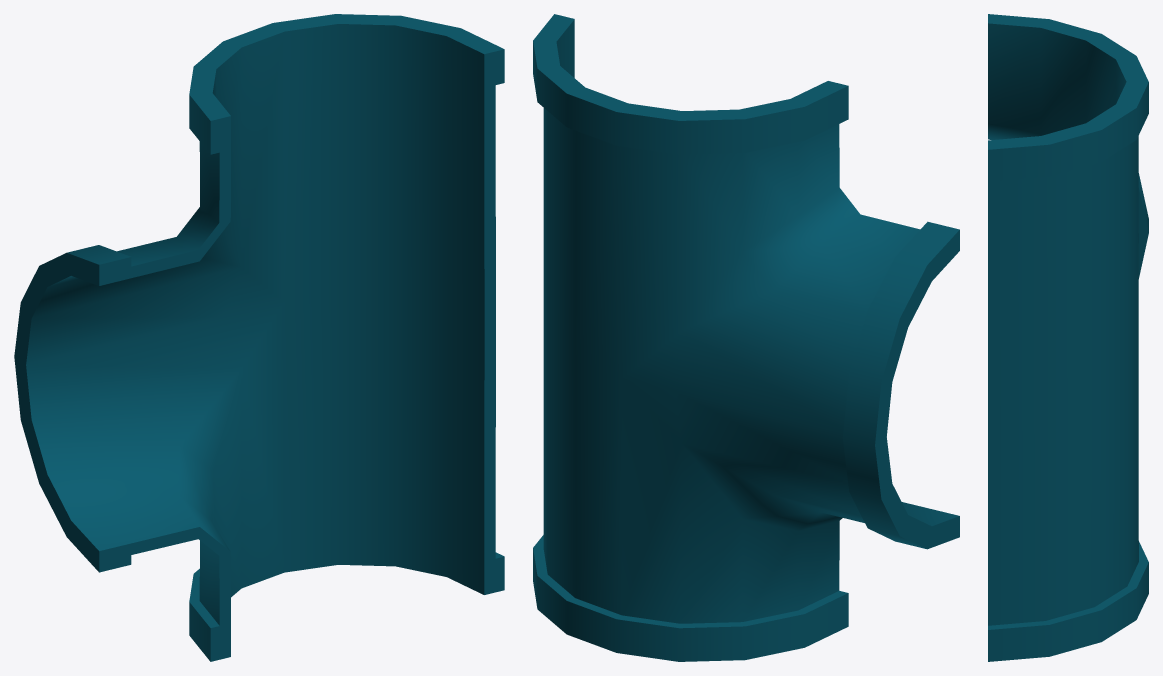
The model's file is Modulo4_T_Blockout.FBX.
The picture shows the model from 3 angles, left to right: view 1: azimuth 30°, elevation 25°; view 2: azimuth 150°, elevation 25°; view 3: azimuth 270°, elevation 25°; orthographic projection. The views are drawn at different scales.
Visible parts, largest first — view 1: Tubo_Modulo4_T; view 2: Tubo_Modulo4_T; view 3: Tubo_Modulo4_T.
Boxes of the visible parts, bbox=[...] form: Tubo_Modulo4_T: bbox=[14, 14, 504, 661]; Tubo_Modulo4_T: bbox=[533, 14, 959, 661]; Tubo_Modulo4_T: bbox=[988, 14, 1148, 661].
Size of the model in its own units: 142 by 181 by 51.47.
